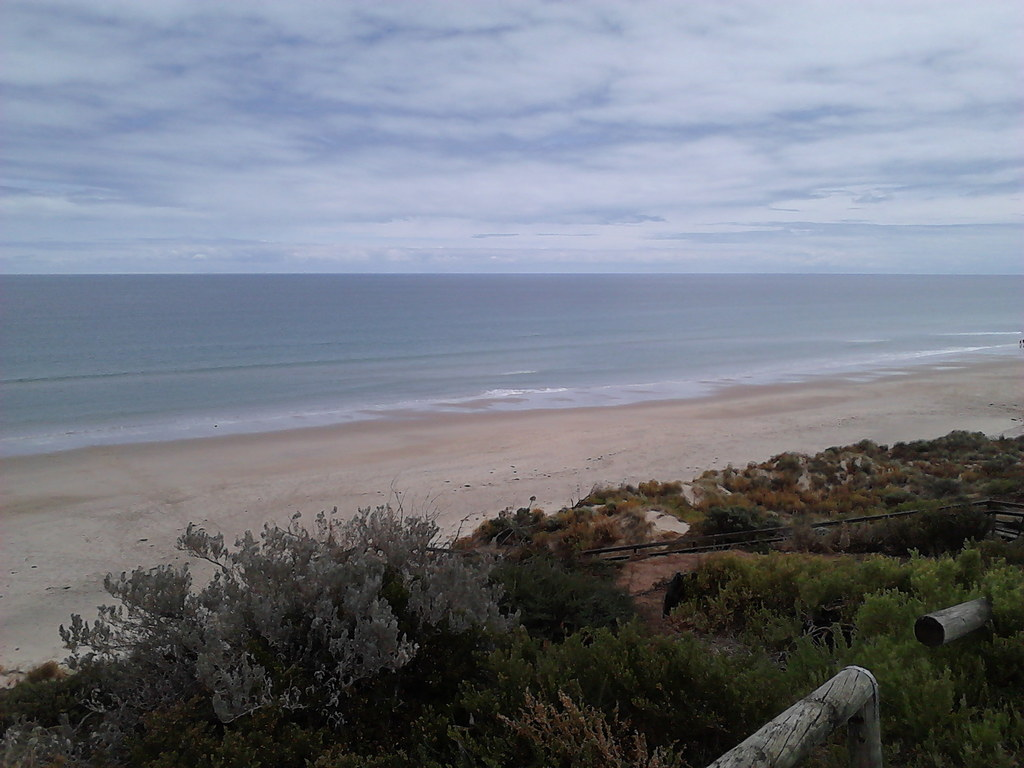Tree: (64, 506, 526, 721)
